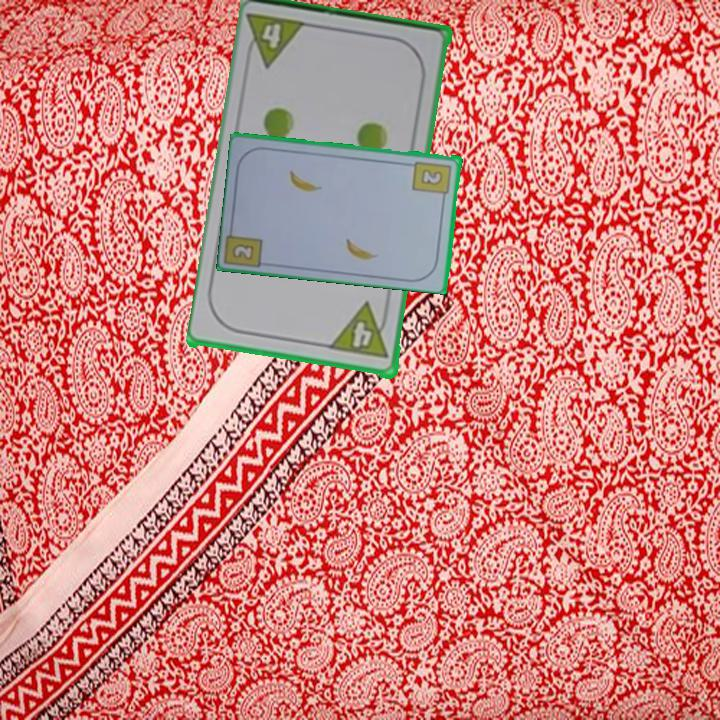2b: (410, 157, 454, 203), (229, 240, 257, 263)
4p: (241, 9, 312, 72), (327, 301, 393, 363)
